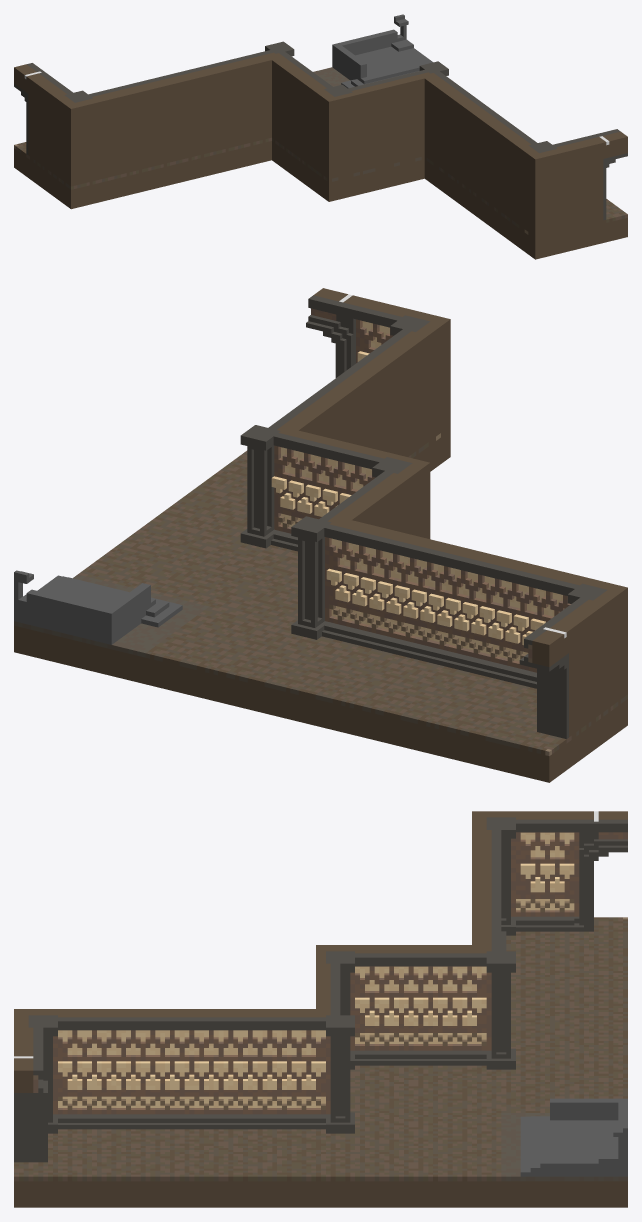
File: SpeechRoom-3.obj
3 views of the same model, one above another, from view 1: azimuth 30°, elevation 25°; view 2: azimuth 150°, elevation 25°; view 3: azimuth 270°, elevation 25° (orthographic). The views are drawn at different scales.
Bounding box in the file's own units: 12.6 × 3.1 × 12.6.
